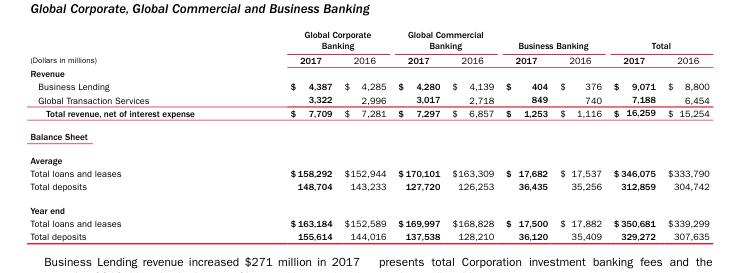table: (29, 28, 708, 241)
table column: (29, 28, 241, 241), (241, 28, 337, 241), (337, 28, 391, 241), (391, 28, 445, 241), (445, 28, 499, 241), (499, 28, 553, 241), (606, 28, 660, 241), (553, 28, 606, 241), (660, 28, 708, 241)
table column header: (29, 28, 708, 66)
table projected row header: (29, 124, 708, 147), (29, 147, 708, 166), (29, 197, 708, 216), (29, 66, 708, 79)
table row: (29, 28, 708, 52), (29, 124, 708, 147), (29, 105, 708, 124), (29, 147, 708, 166), (29, 197, 708, 216), (29, 179, 708, 197), (29, 52, 708, 66), (29, 66, 708, 79), (29, 79, 708, 92), (29, 92, 708, 105), (29, 166, 708, 179), (29, 216, 708, 229), (29, 229, 708, 241)
table spanning cell: (29, 28, 241, 66), (241, 28, 391, 52), (391, 28, 499, 52), (499, 28, 606, 52), (606, 28, 708, 52)
